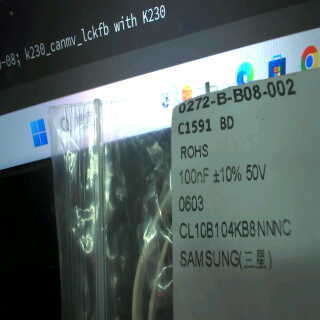100nF: (178, 163, 211, 189)
